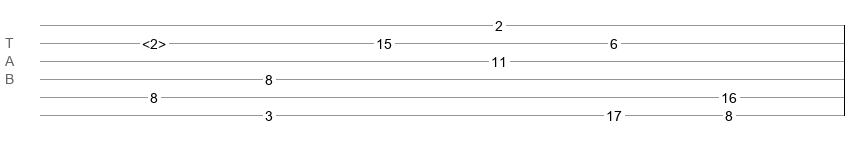11: (491, 54, 507, 64)
15: (376, 36, 392, 46)
16: (721, 90, 737, 100)
17: (606, 108, 622, 118)
2: (495, 18, 503, 28)
3: (265, 108, 273, 118)
6: (610, 36, 618, 46)
8: (150, 90, 158, 100), (265, 72, 273, 82), (725, 108, 733, 118)
harmonic: (142, 36, 166, 46)
